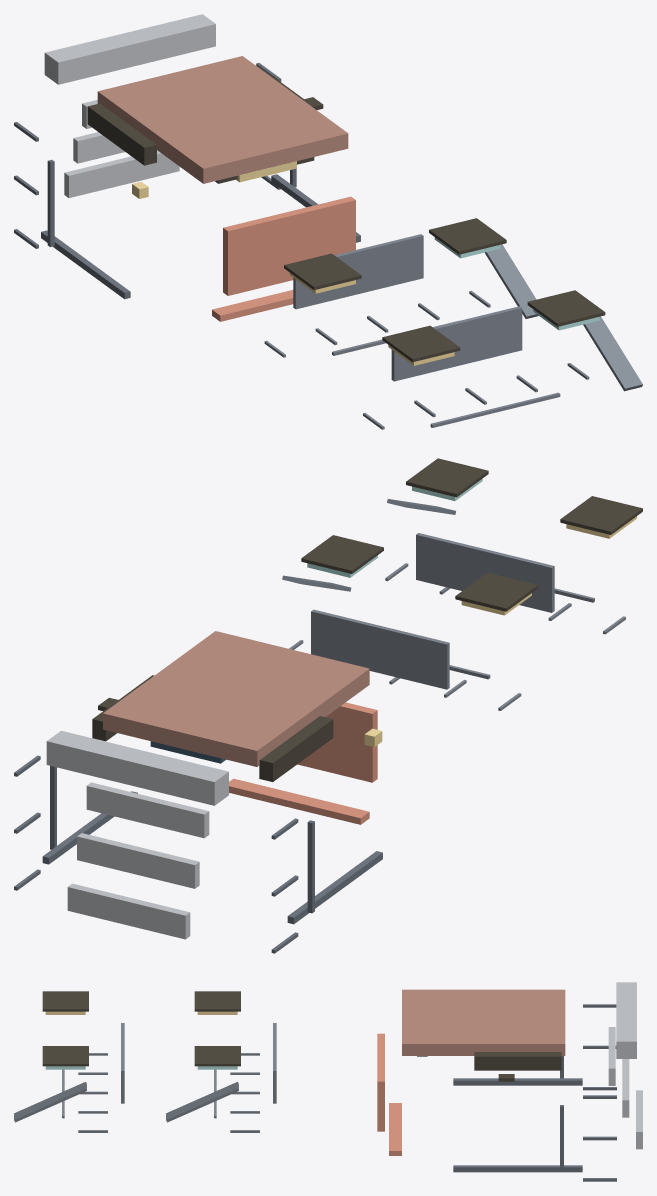
Rendered from apartment.glb.
3 views of the same model, one above another, from view 1: azimuth 30°, elevation 25°; view 2: azimuth 150°, elevation 25°; view 3: azimuth 270°, elevation 25° (orthographic). The views are drawn at different scales.
Parts seen in each view (by area): view 1: cel_apt_brick, cel_apt_escape, cel_apt_stone, cel_apt_canopy, cel_apt_trim, cel_apt_rail, cel_apt_warm; view 2: cel_apt_brick, cel_apt_stone, cel_apt_escape, cel_apt_trim, cel_apt_canopy, cel_apt_rail, cel_apt_warm; view 3: cel_apt_brick, cel_apt_trim, cel_apt_escape, cel_apt_rail, cel_apt_stone, cel_apt_canopy, cel_apt_glass, cel_apt_warm.
Part boxes in pixels (x1,y1,x2,y2): cel_apt_brick: (97, 56, 348, 183); cel_apt_escape: (264, 234, 642, 429); cel_apt_stone: (44, 14, 215, 197); cel_apt_canopy: (212, 196, 355, 321); cel_apt_trim: (87, 65, 605, 362); cel_apt_rail: (14, 63, 360, 299); cel_apt_warm: (132, 161, 454, 365); cel_apt_brick: (103, 631, 369, 766); cel_apt_stone: (46, 730, 228, 939); cel_apt_escape: (282, 499, 625, 710); cel_apt_trim: (92, 458, 642, 781); cel_apt_canopy: (229, 702, 377, 824); cel_apt_rail: (14, 755, 382, 953); cel_apt_warm: (364, 516, 636, 746); cel_apt_brick: (402, 989, 565, 1055); cel_apt_trim: (42, 991, 561, 1081); cel_apt_escape: (14, 1023, 276, 1132); cel_apt_rail: (453, 1004, 616, 1181); cel_apt_stone: (608, 982, 642, 1149); cel_apt_canopy: (377, 1033, 401, 1155); cel_apt_glass: (45, 1066, 237, 1069); cel_apt_warm: (45, 1011, 237, 1014).
Size of the model in its own units: 2.89 by 1.79 by 8.28.
